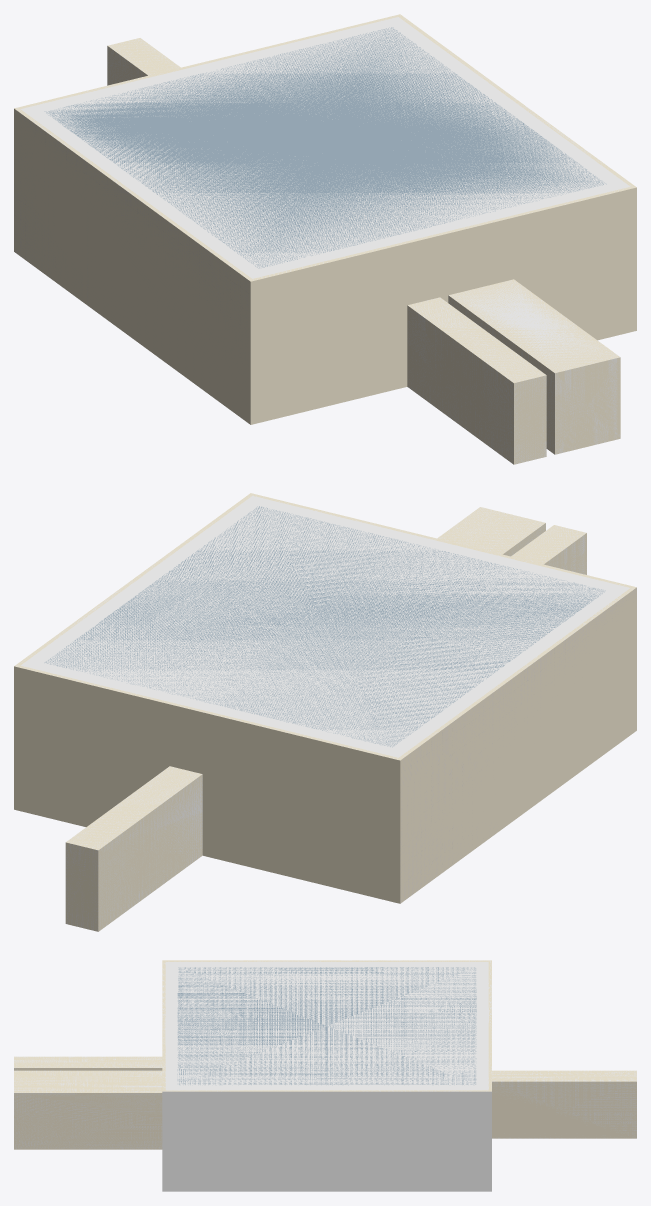
Rendered from Pasopati.fbx.
The picture shows the model from 3 angles, top to bottom: view 1: azimuth 30°, elevation 25°; view 2: azimuth 150°, elevation 25°; view 3: azimuth 270°, elevation 25°; orthographic projection. The views are drawn at different scales.
Parts seen in each view (by area): view 1: Group1, Model; view 2: Group1, Model; view 3: Group1, Model.
Boxes of the visible parts, x1,y1,x2,y2 form: Group1: [14, 14, 636, 464]; Model: [44, 27, 606, 268]; Group1: [14, 493, 636, 931]; Model: [44, 506, 606, 747]; Group1: [14, 960, 636, 1191]; Model: [177, 967, 476, 1085].
Bounding box in the file's own units: 9.42 × 3.34 × 18.9.
